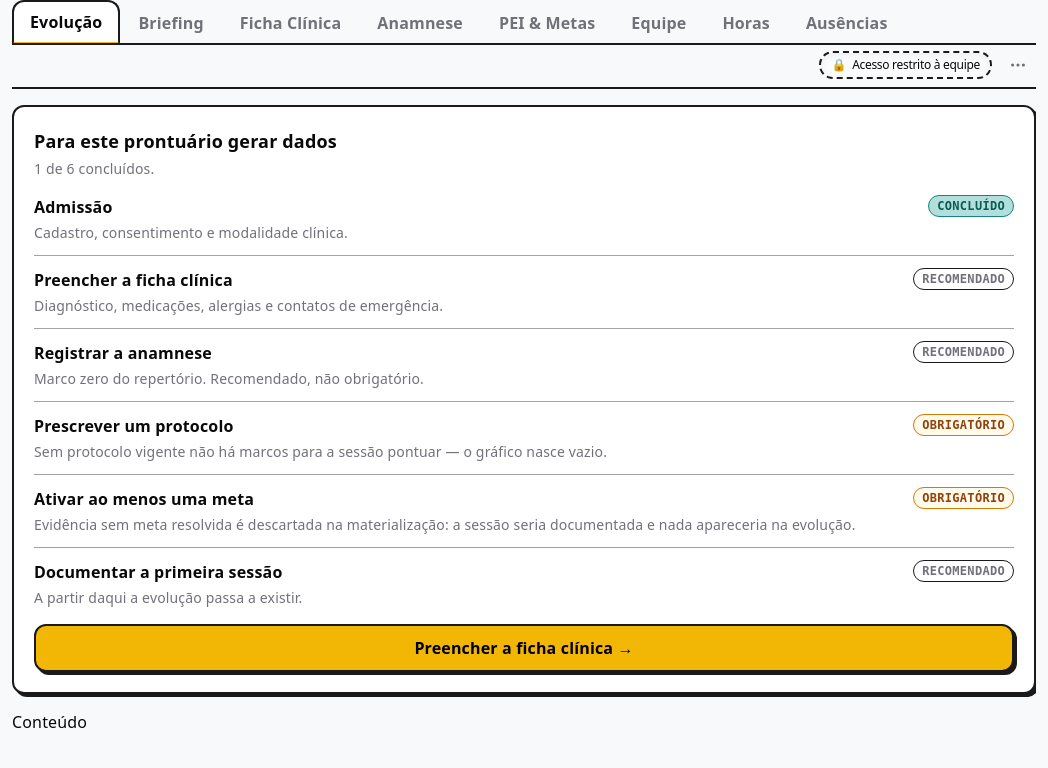
Test: PacienteLayout - ciclo de vida do prontuário (D65) › coordenador vê Registrar alta e Arquivar em protocol_driven
The image size is (1048, 768).
Click the button named "Ações do prontuário" at {"x": 1018, "y": 65}, box top-left (1000, 47), bottom-right (1036, 83)
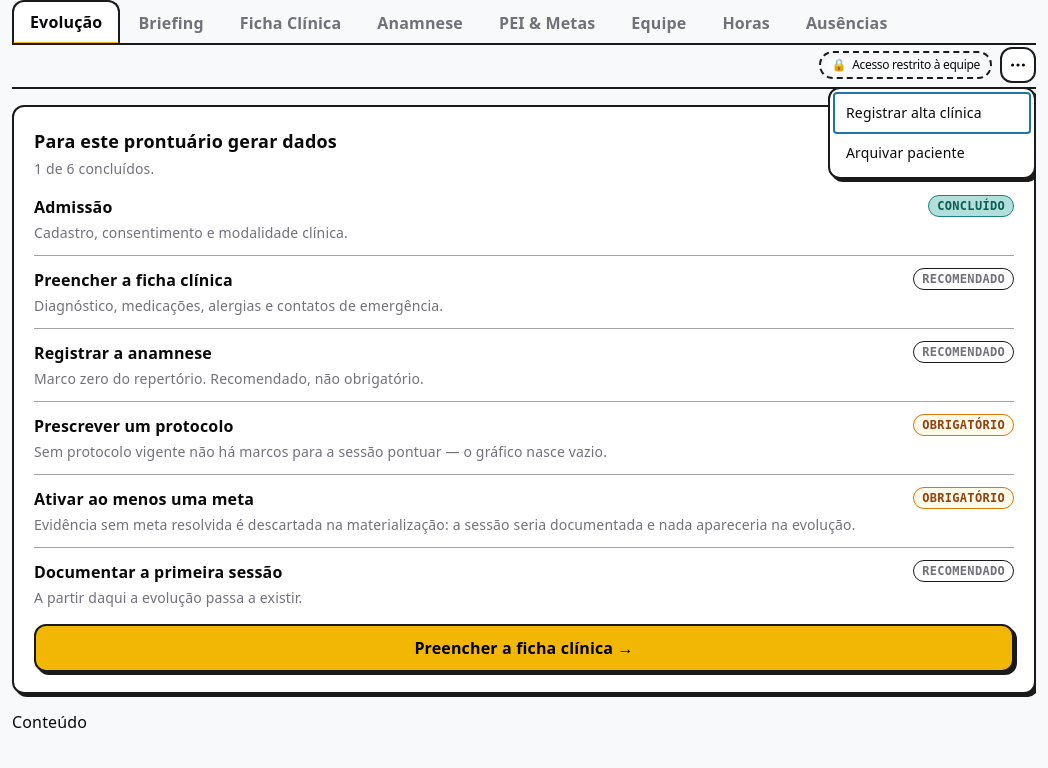
Expected: the menu is shown, top-left (828, 87), bottom-right (1036, 179)
Expected: the menu item "Registrar alta clínica" is shown, top-left (834, 93), bottom-right (1030, 133)
Expected: the menu item "Arquivar paciente" is shown, top-left (834, 133), bottom-right (1030, 173)
